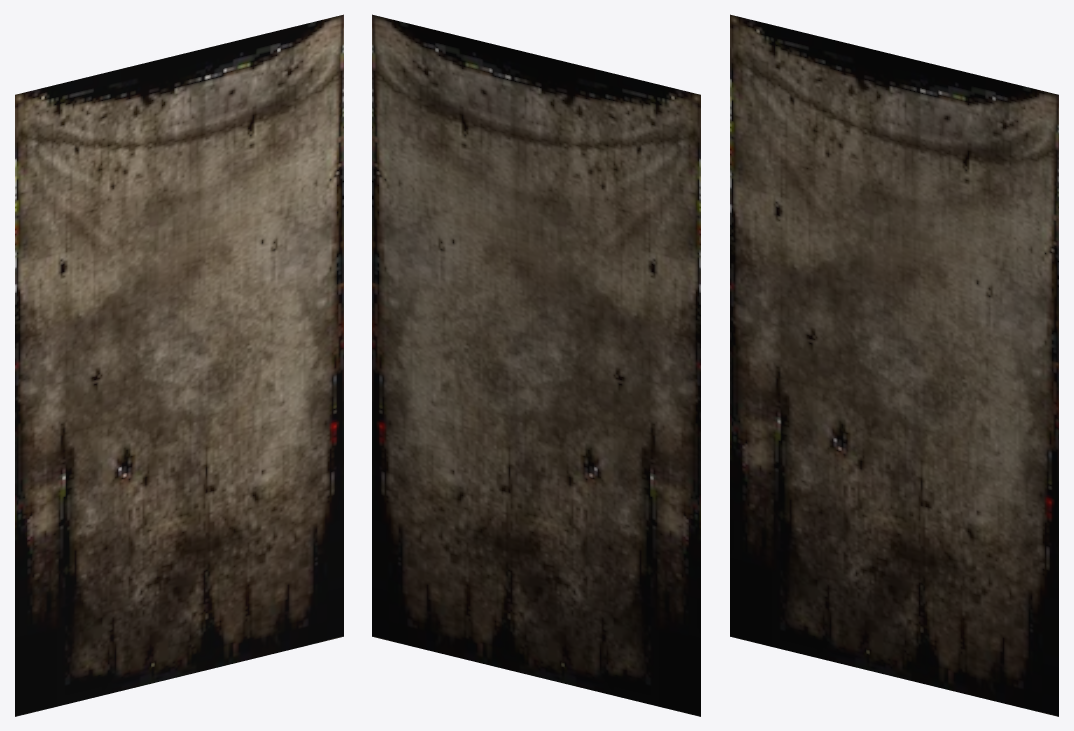
Rendered from o_mdl_env_propBannerRagsB-transformed.glb.
3 views of the same model, side by side, from view 1: azimuth 30°, elevation 25°; view 2: azimuth 150°, elevation 25°; view 3: azimuth 330°, elevation 25° (orthographic).
Parts seen in each view (by area): view 1: default; view 2: default; view 3: default.
Boxes of the visible parts, box(x1,y1,x2,y2) form: default: box(15, 14, 343, 716); default: box(372, 14, 700, 716); default: box(730, 14, 1058, 716).
Size of the model in its own units: 7.67 by 13.87 by 0.0339.
1 material, 1 textured.
